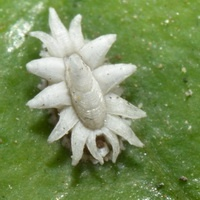insect: (26, 8, 145, 165)
